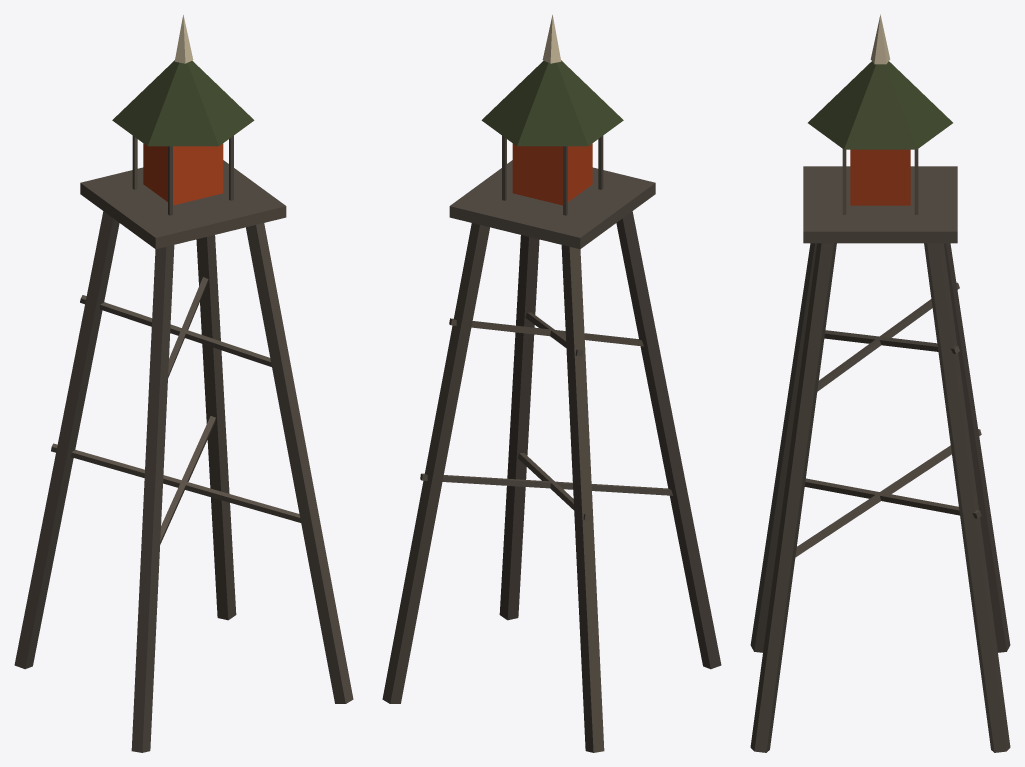
File: reef_lantern.glb
The picture shows the model from 3 angles, left to right: view 1: azimuth 30°, elevation 25°; view 2: azimuth 150°, elevation 25°; view 3: azimuth 270°, elevation 25°; orthographic projection. The views are drawn at different scales.
Parts seen in each view (by area): view 1: reef_lantern; view 2: reef_lantern; view 3: reef_lantern.
Boxes of the visible parts, x1,y1,x2,y2 form: reef_lantern: [14, 15, 353, 752]; reef_lantern: [382, 15, 721, 752]; reef_lantern: [750, 14, 1010, 752].
Bounding box in the file's own units: 3.02 × 8.82 × 3.03.
Materials: 1 (1 with a texture image).
